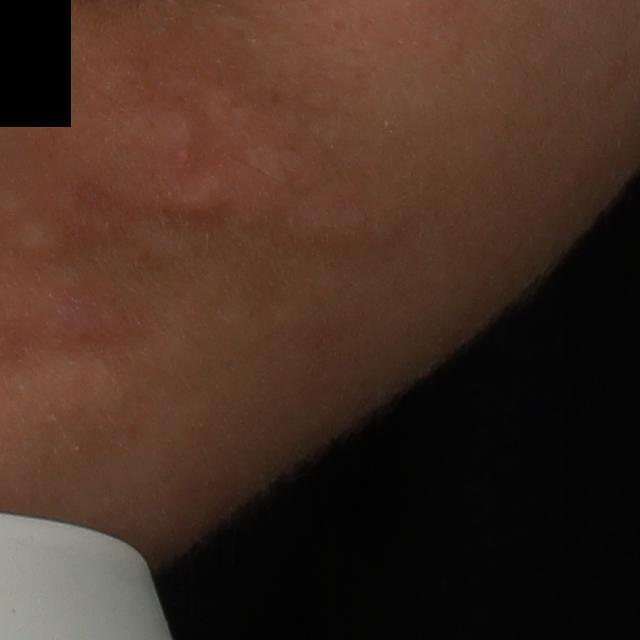hypertrophic_scar: (97, 173, 236, 220), (101, 103, 197, 169), (10, 218, 68, 261)
